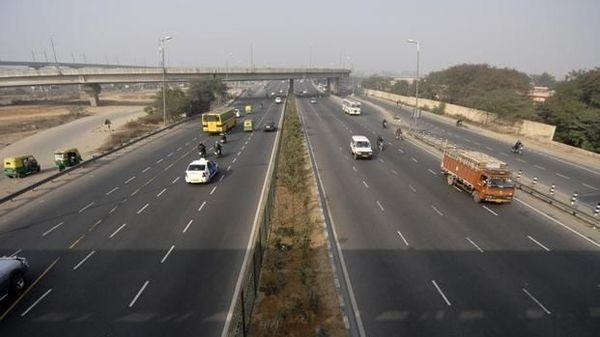car: (440, 142, 515, 212), (1, 248, 31, 303), (183, 156, 223, 187), (201, 106, 240, 135), (349, 130, 374, 169), (1, 156, 40, 180), (48, 148, 83, 174), (340, 96, 363, 119)
motocar: (510, 137, 528, 161), (193, 140, 210, 159), (211, 139, 224, 160), (375, 130, 386, 152), (381, 115, 390, 130)
